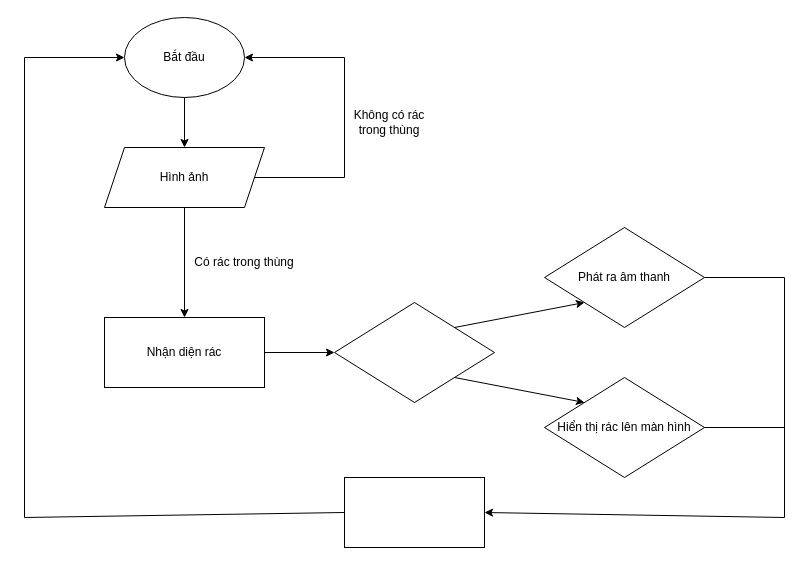
Some shapes in this 810 by 565 pixel diagram are drawn without their labels. The box of each missing label's shape, as (x1, y1, x2, y2) in pixels:
Loại rác được phân loại: (334, 302, 494, 402)
Đưa rác vào thùng rác tương ứng: (344, 476, 484, 548)
